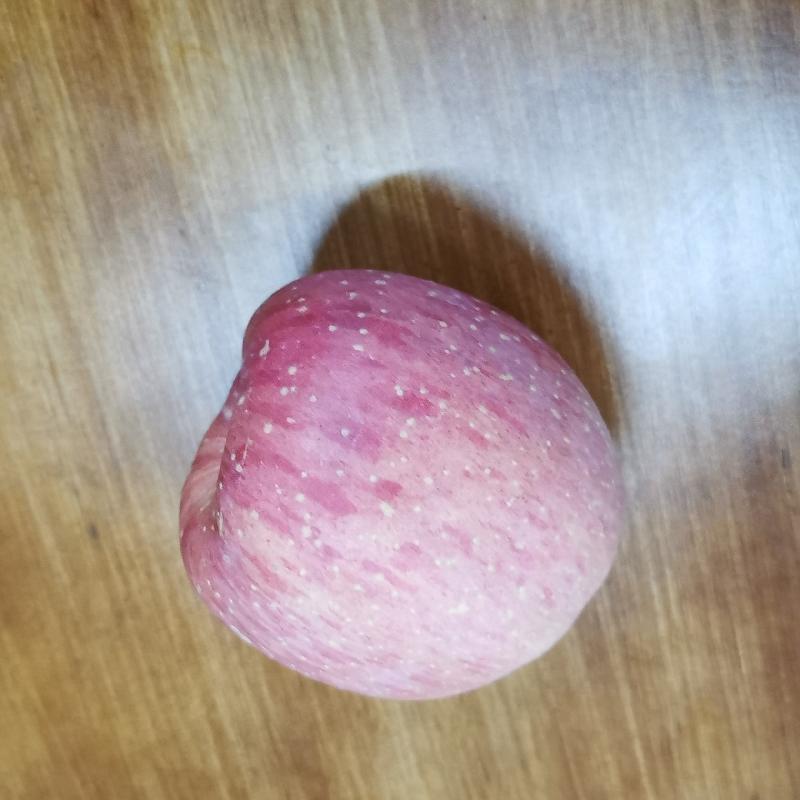apples: (173, 262, 626, 705)
